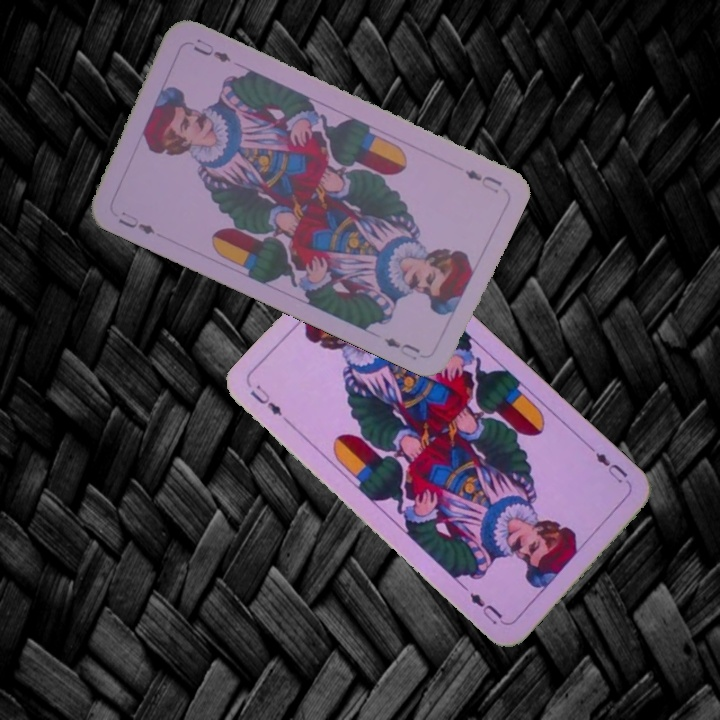EU: (246, 380, 294, 428), (586, 443, 631, 486), (461, 165, 505, 196), (114, 208, 158, 237)
